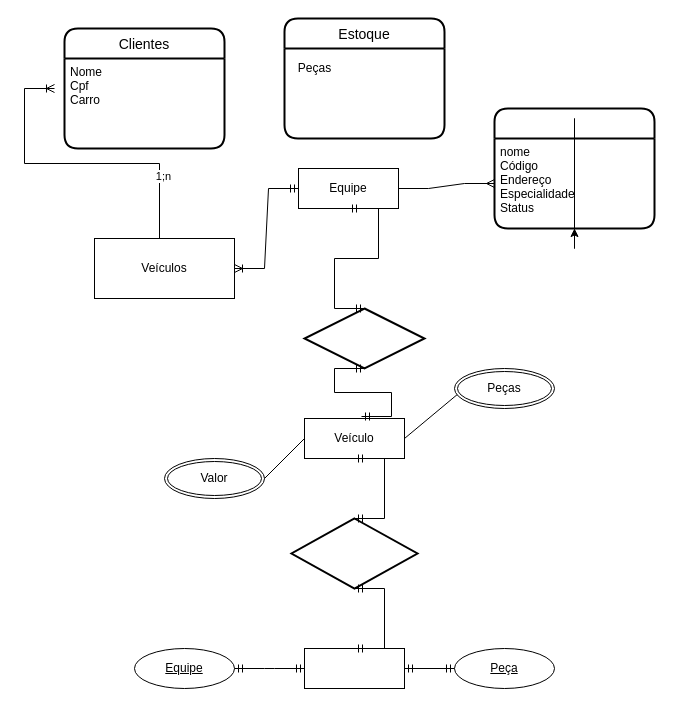
This 673x714 diagram has some shape labels left out. Here are the shapes that lost their labels. From the top down, the box of each, then its label:
(493, 107, 655, 229): Mecânicos
(303, 307, 425, 369): Avaliar
(290, 517, 418, 589): Consertar
(304, 648, 404, 688): Calcular
